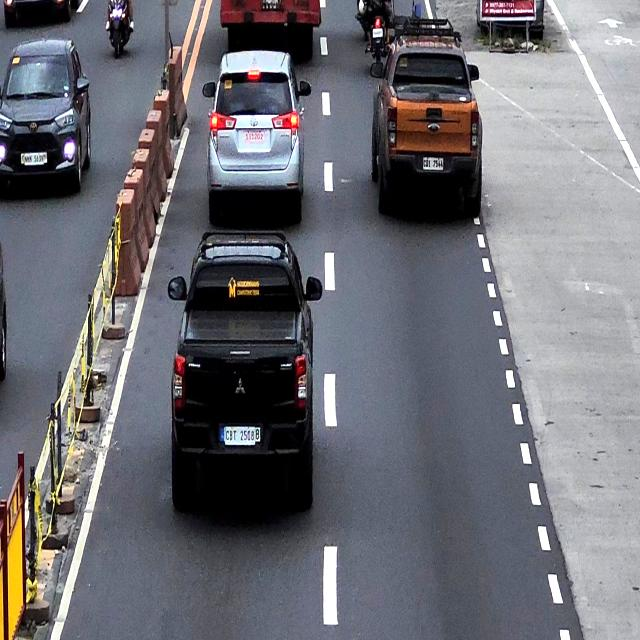Car: (168, 231, 322, 513), (370, 31, 482, 220), (203, 50, 311, 225)
License-Plate: (225, 427, 255, 446), (243, 130, 266, 144), (423, 157, 444, 170)
